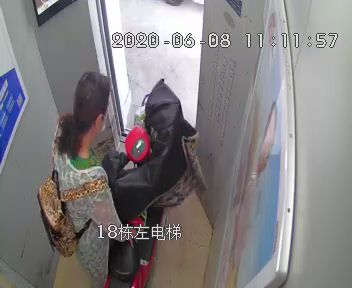Electric-bicycle: (102, 81, 201, 288)
